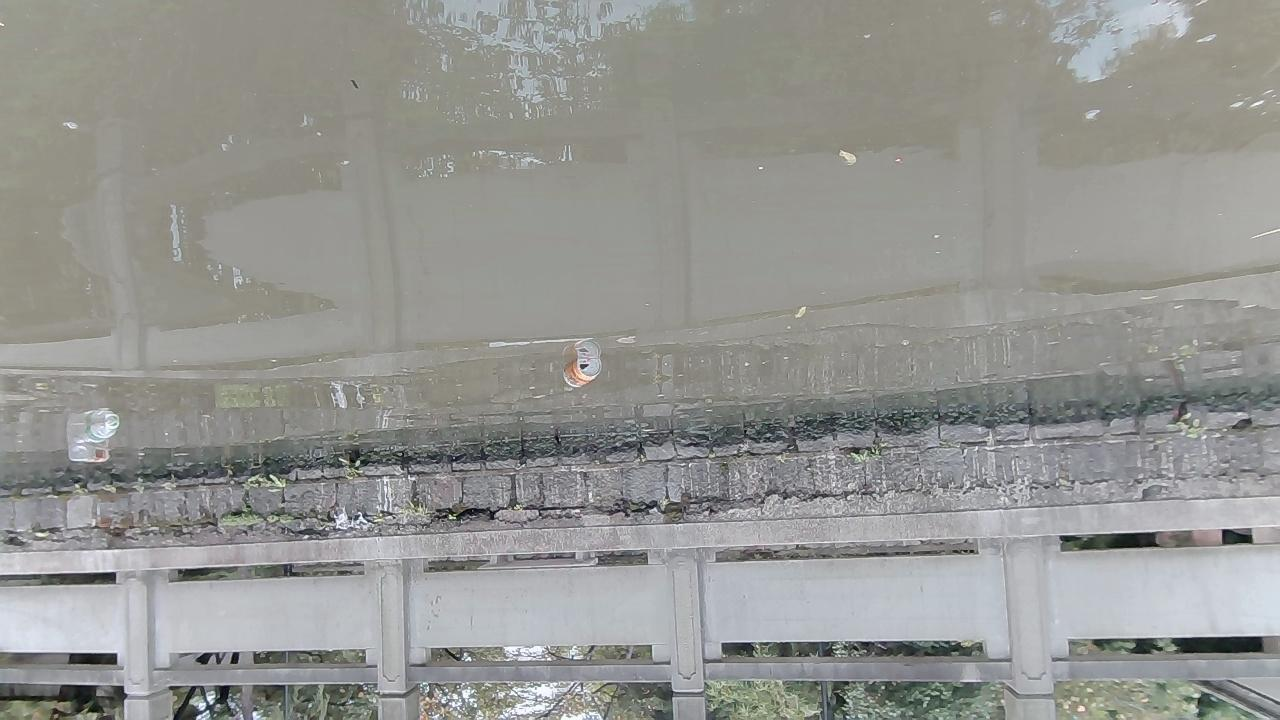Metal: (561, 357, 603, 389)
Plastic: (83, 419, 120, 444), (67, 444, 111, 464)
